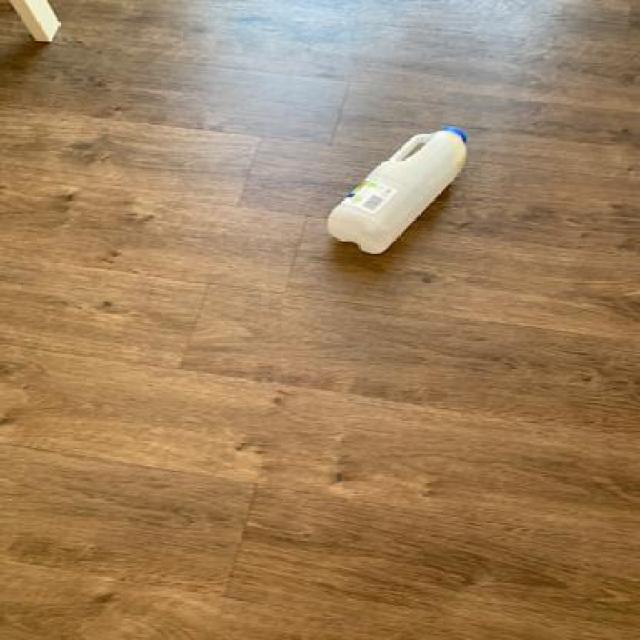trash: (324, 120, 476, 258)
